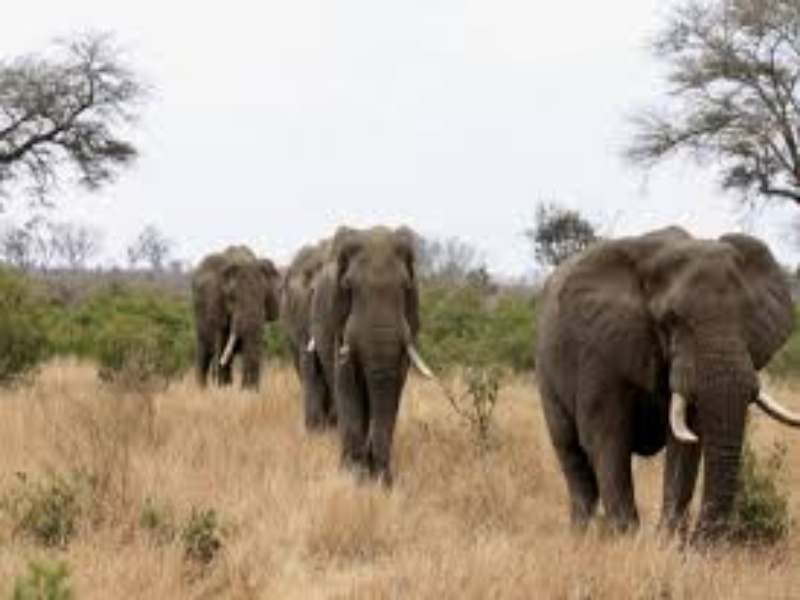elephant: (527, 170, 800, 546), (268, 149, 454, 511), (179, 215, 287, 397)
